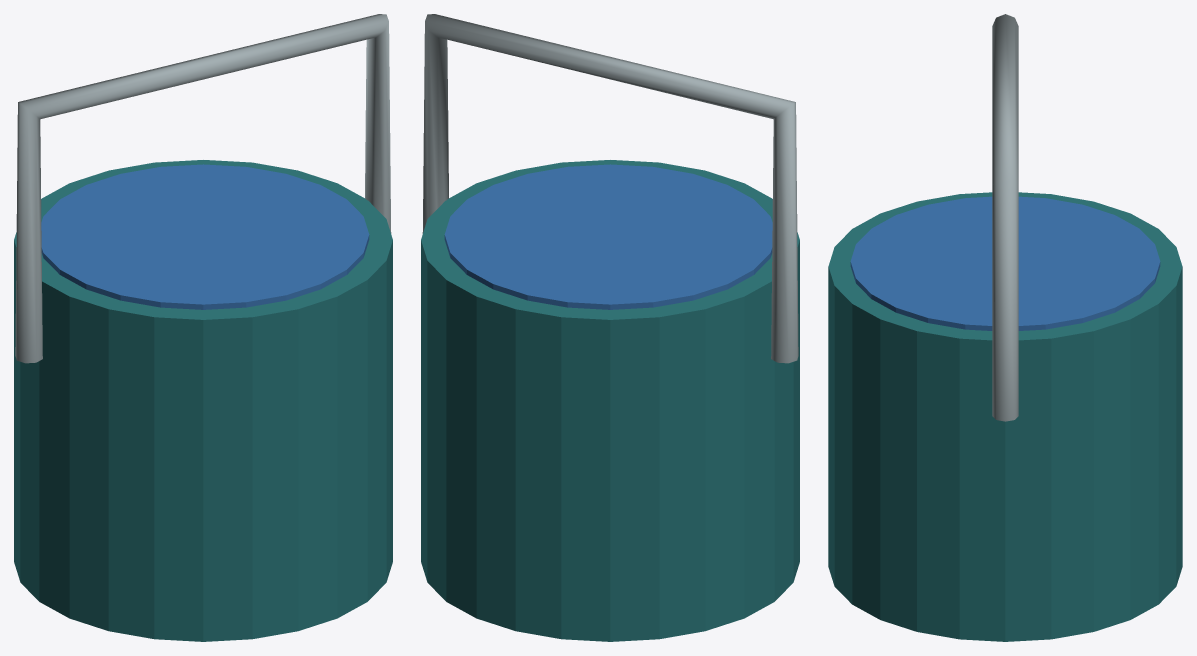
The model's file is mop_bucket.glb.
3 renders of one model, left to right at view 1: azimuth 30°, elevation 25°; view 2: azimuth 150°, elevation 25°; view 3: azimuth 270°, elevation 25°, orthographic. The views are drawn at different scales.
Visible parts, largest first — view 1: mop_bucket; view 2: mop_bucket; view 3: mop_bucket.
Boxes of the visible parts, <box> form: mop_bucket: <box>14,14,392,641</box>; mop_bucket: <box>421,14,799,641</box>; mop_bucket: <box>828,14,1182,641</box>.
Bounding box in the file's own units: 0.364 × 0.4685 × 0.32.
